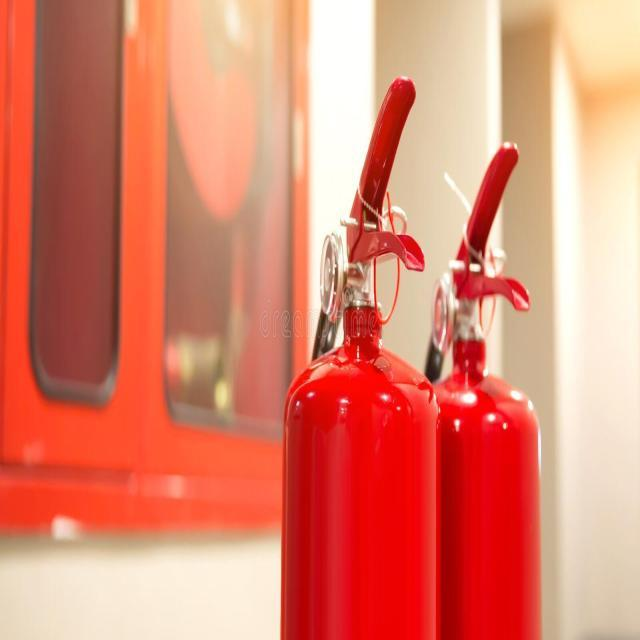fire_extinguisher: (268, 67, 448, 639), (404, 131, 548, 639)
